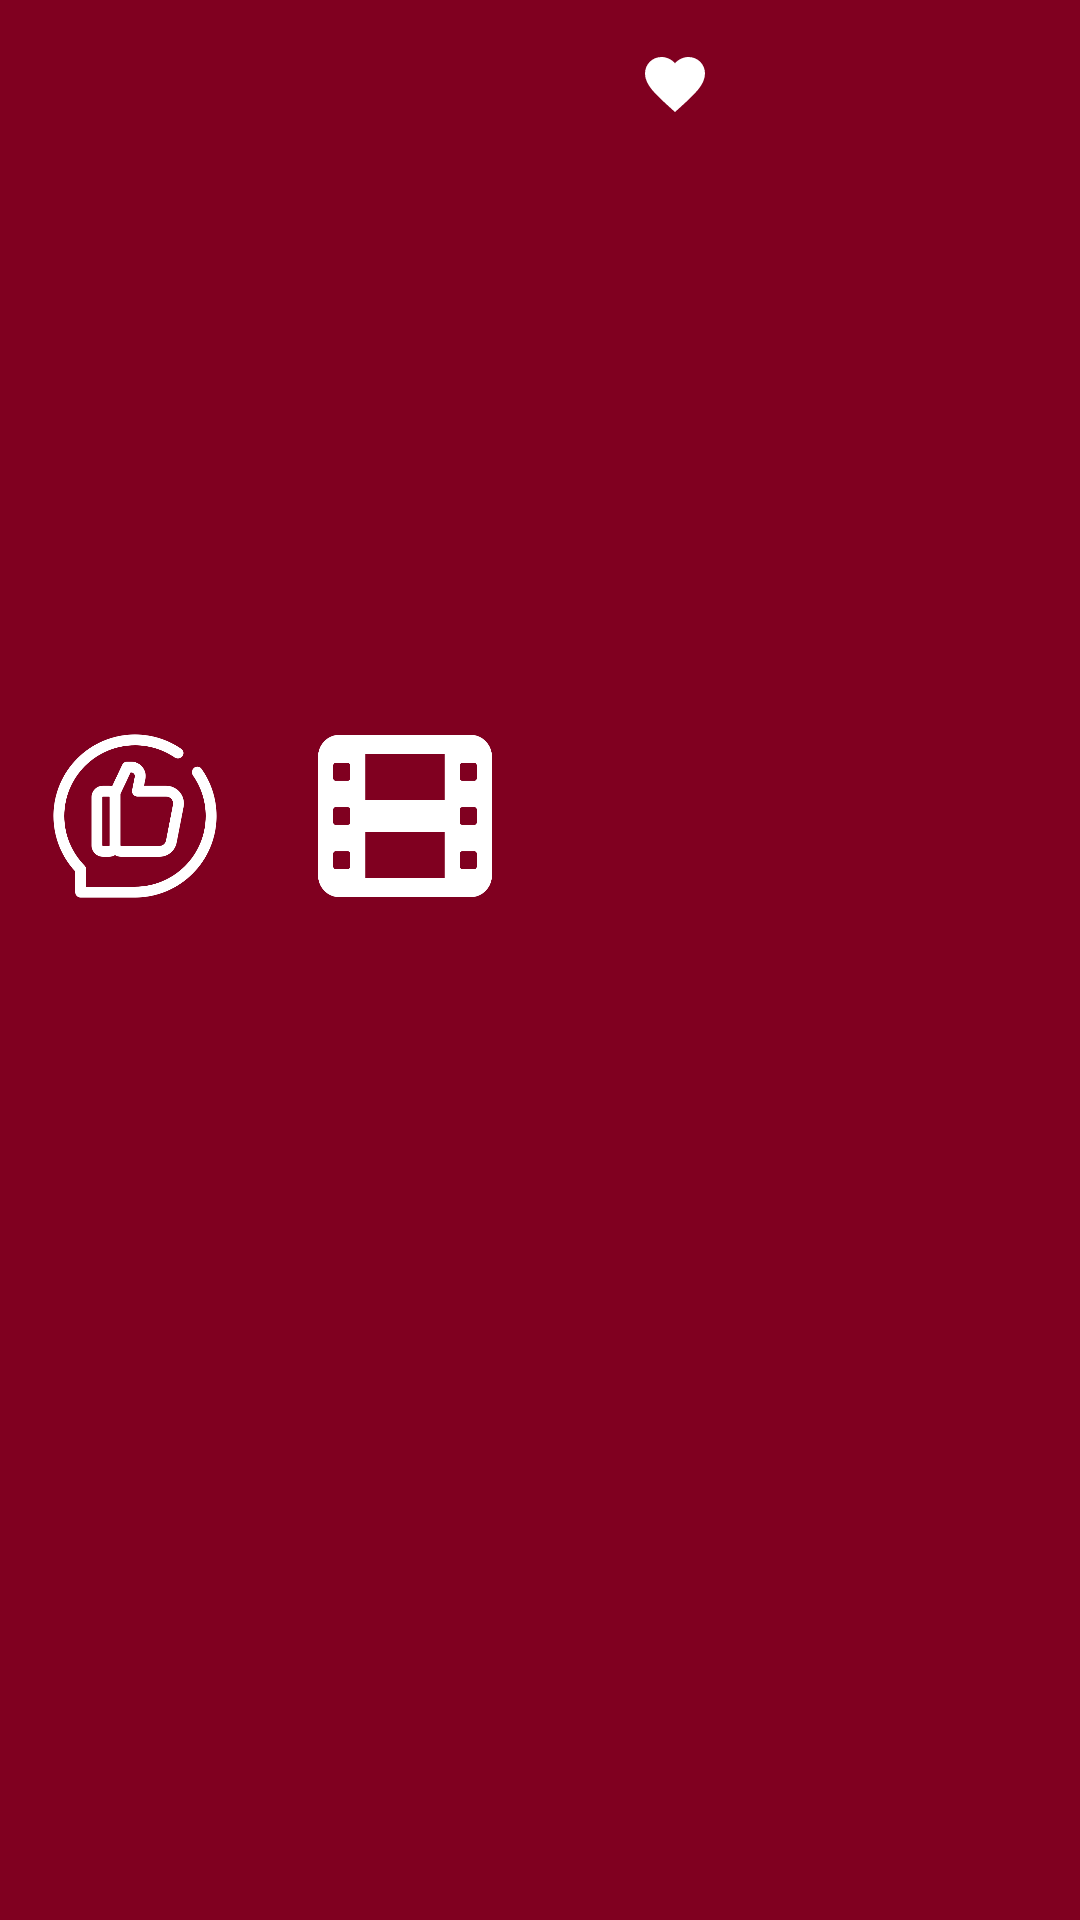

Icon click points for this 1080w x 1920h phone screenshot, format (x=x, y=y):
Избранное: (x=675, y=84)
